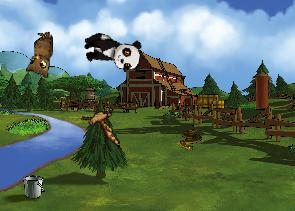eagle: (75, 99, 131, 148)
owl: (24, 31, 53, 78)
panda: (80, 31, 144, 72)
